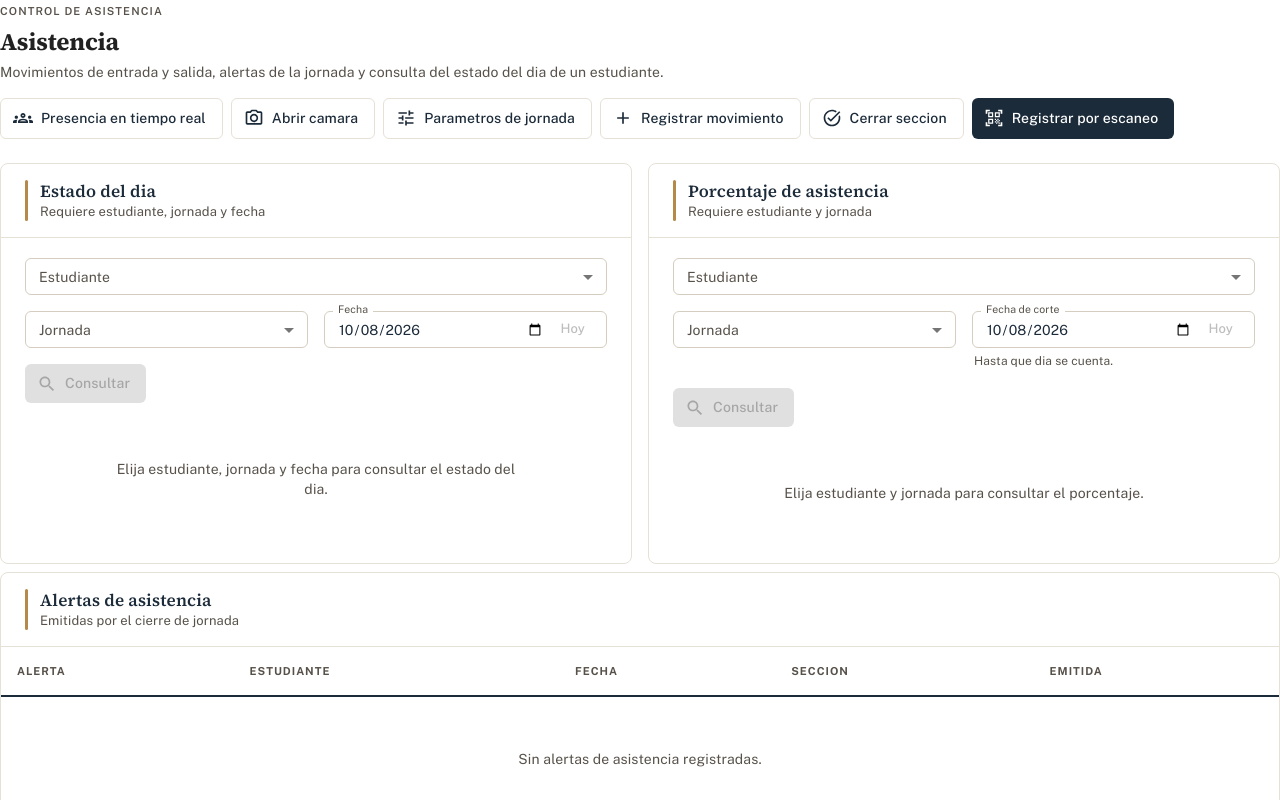
AttendancePage — presencia en tiempo real › lista a los estudiantes presentes tras buscar
The width and height of the screenshot is (1280, 800).
Click the button "Presencia en tiempo real" at (111, 118), box x1=0 y1=98 x2=223 y2=138
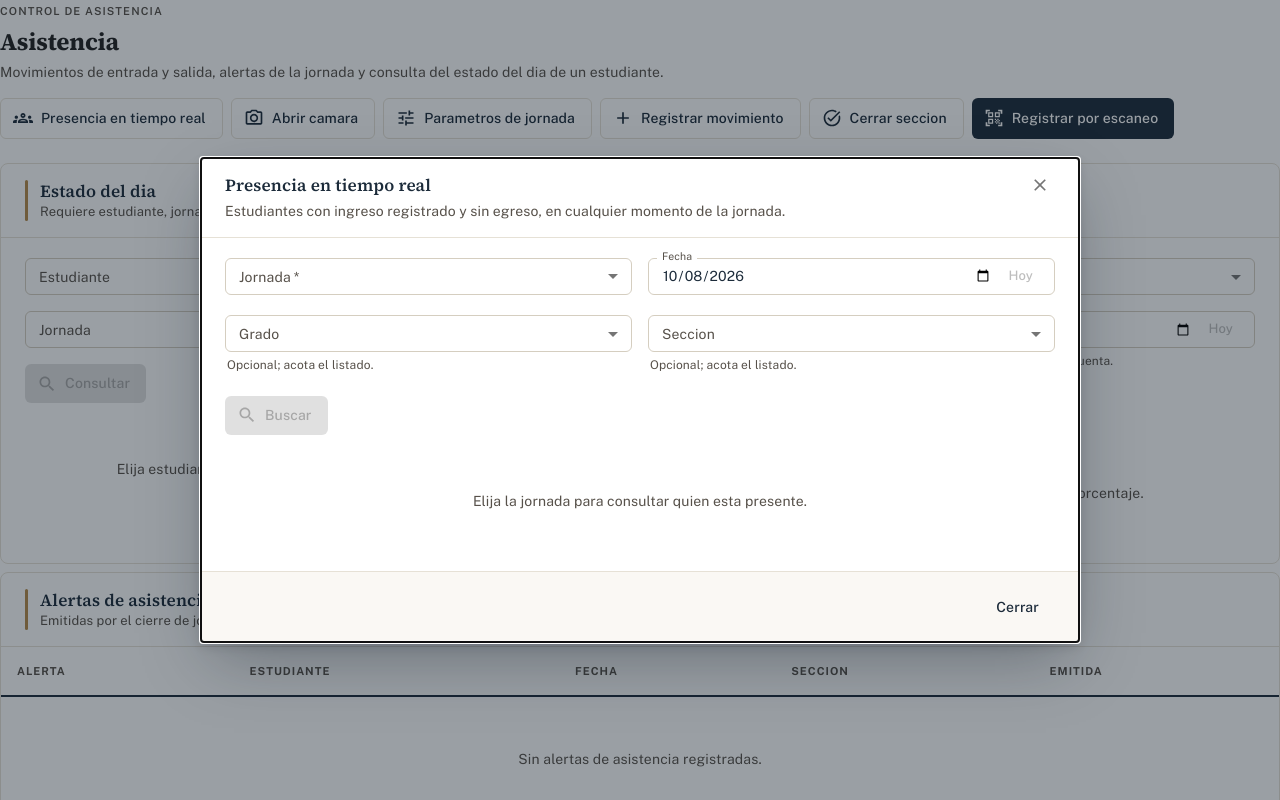
Click the 1st dropdown named "Jornada" at (428, 276), box x1=225 y1=258 x2=632 y2=295
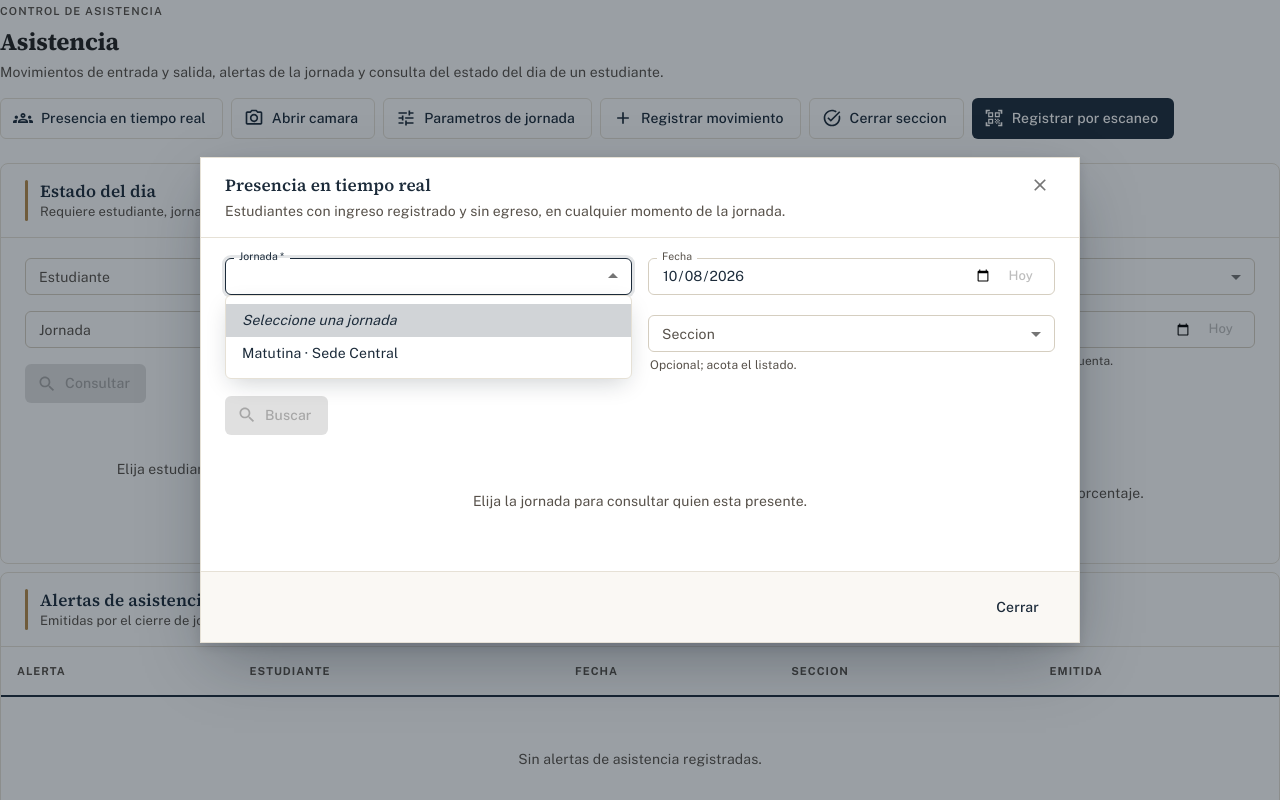
Click the option "Matutina · Sede Central" at (320, 353), box x1=242 y1=345 x2=398 y2=361
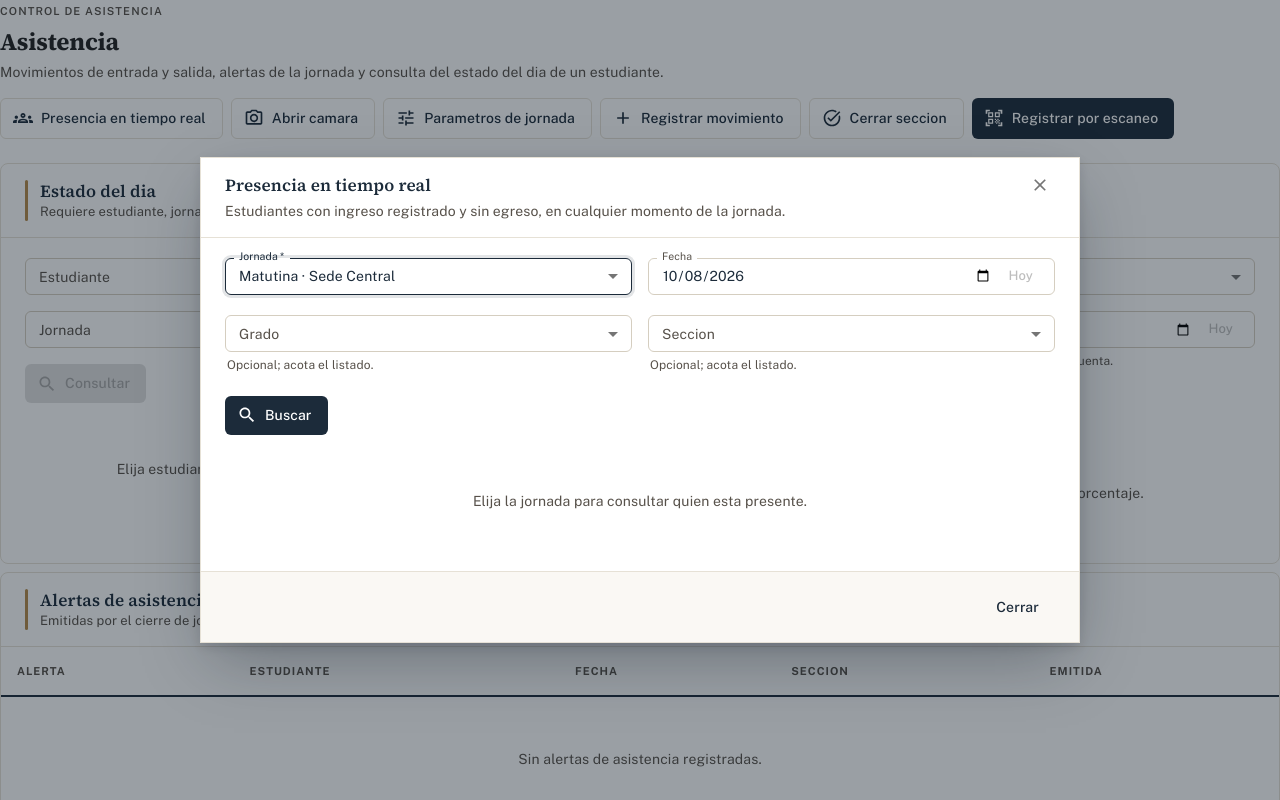
Click the button "Buscar" at (276, 415), box x1=225 y1=396 x2=328 y2=434
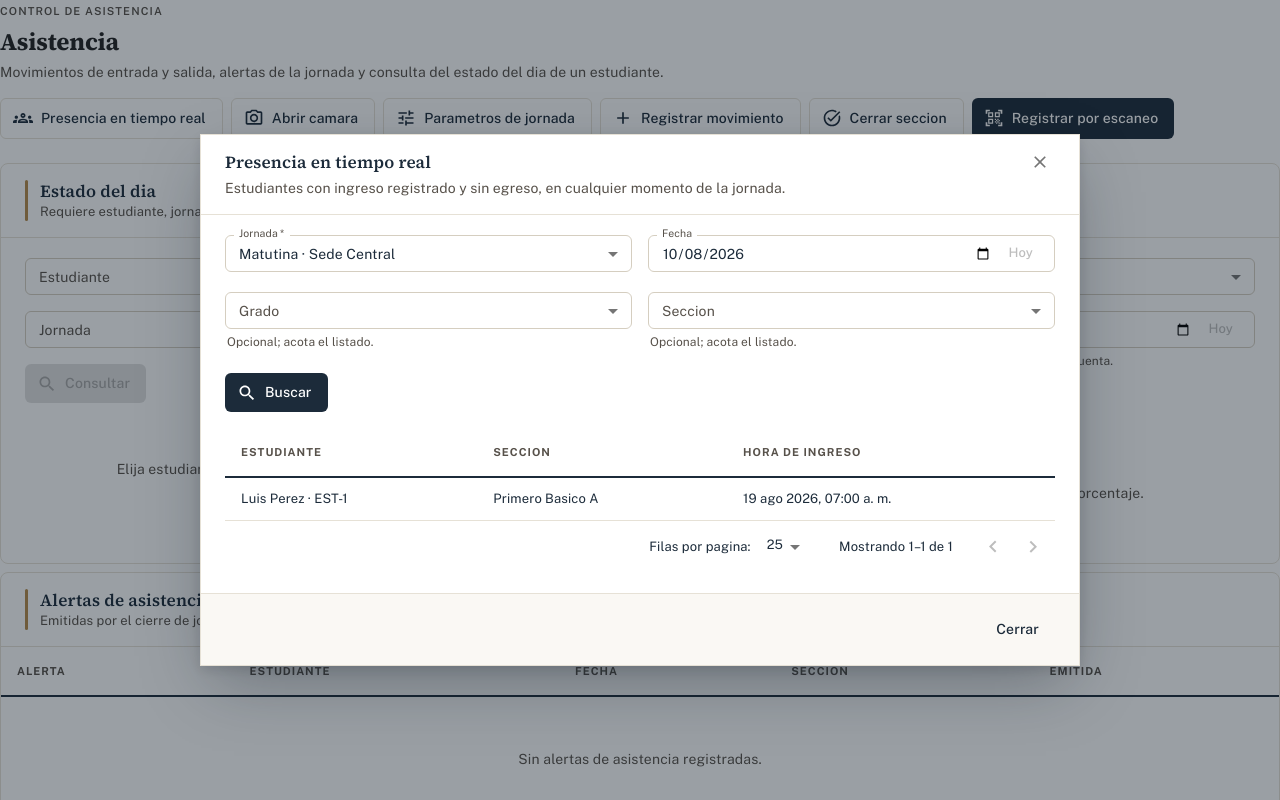
expect the text "Luis Perez · EST-1" is shown: met, box x1=225 y1=477 x2=477 y2=520
expect the text "Primero Basico A" is shown: met, box x1=477 y1=477 x2=727 y2=520
